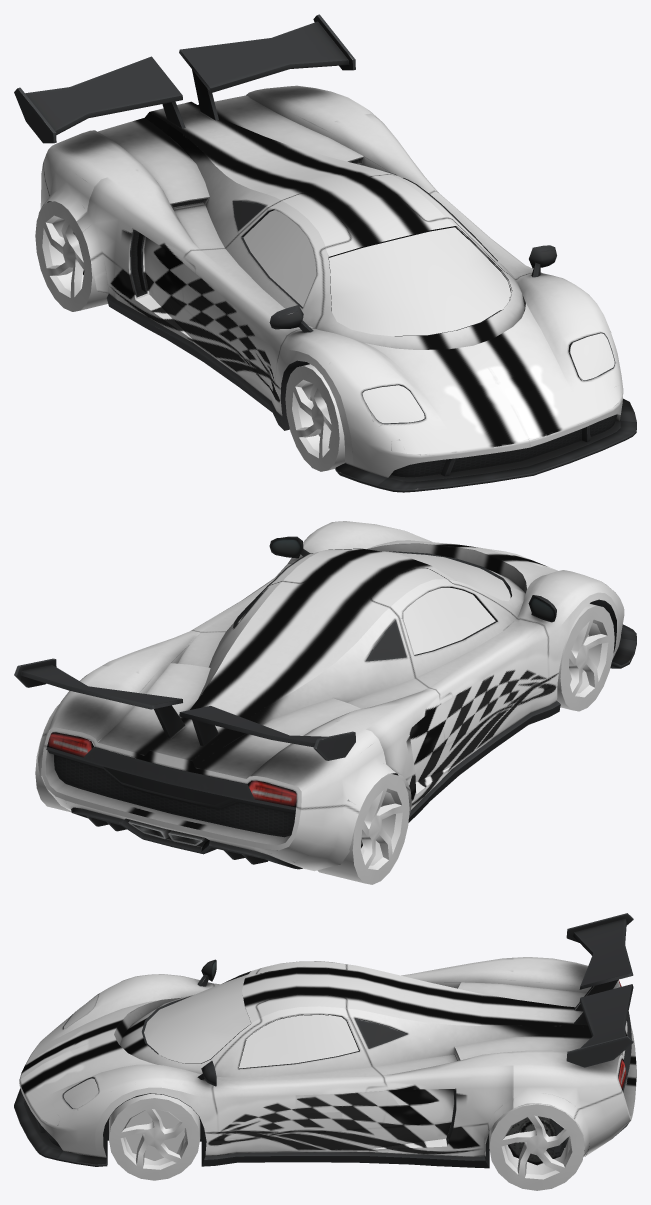
File: car1.fbx
3 views of the same model, one above another, from view 1: azimuth 30°, elevation 25°; view 2: azimuth 150°, elevation 25°; view 3: azimuth 270°, elevation 25° (orthographic). The views are drawn at different scales.
Visible parts, largest first — view 1: Body_22, Body_22.001, Glass_22, Wheel_Back_R, Wheel_R, Glass_light; view 2: Body_22, Body_22.001, Glass_22, Wheel_Back_R, Wheel_R, light, Body_22.003, Wheel_Back_L; view 3: Body_22, Body_22.001, Glass_22, Wheel_L, Wheel_Back_L, Glass_light.
Boxes of the visible parts, x1=… form: Body_22: x1=38, y1=59, x2=623, y2=477; Body_22.001: x1=14, y1=14, x2=636, y2=492; Glass_22: x1=243, y1=210, x2=510, y2=336; Wheel_Back_R: x1=35, y1=201, x2=108, y2=311; Wheel_R: x1=285, y1=364, x2=344, y2=471; Glass_light: x1=362, y1=333, x2=615, y2=423; Body_22: x1=38, y1=521, x2=624, y2=871; Body_22.001: x1=14, y1=536, x2=636, y2=869; Glass_22: x1=263, y1=551, x2=510, y2=654; Wheel_Back_R: x1=317, y1=773, x2=409, y2=884; Wheel_R: x1=557, y1=603, x2=614, y2=711; light: x1=47, y1=732, x2=296, y2=807; Body_22.003: x1=128, y1=819, x2=206, y2=845; Wheel_Back_L: x1=35, y1=735, x2=130, y2=812; Body_22: x1=19, y1=957, x2=636, y2=1167; Body_22.001: x1=14, y1=913, x2=633, y2=1168; Glass_22: x1=144, y1=974, x2=358, y2=1068; Wheel_L: x1=109, y1=1094, x2=200, y2=1180; Wheel_Back_L: x1=489, y1=1103, x2=584, y2=1190; Glass_light: x1=63, y1=994, x2=98, y2=1109.
Size of the model in its own units: 501 by 269 by 1006.
